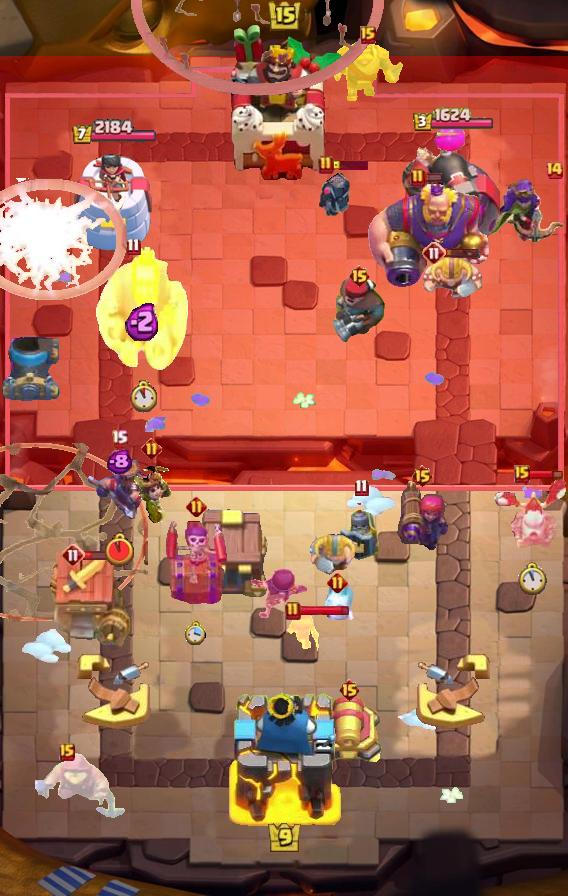barbarian-evolution: (0, 178, 128, 300)
barbarian-hut: (482, 179, 568, 255)
bat: (315, 581, 359, 627)
battle-ram: (317, 166, 353, 220)
bomb: (193, 506, 273, 600)
bomber-evolution: (129, 463, 173, 524)
electro-spirit: (125, 301, 161, 341), (106, 449, 132, 475)
elixir: (106, 532, 135, 567), (129, 379, 159, 412), (518, 562, 547, 596), (185, 619, 207, 644)
elixir-golem-big: (85, 450, 153, 524)
emote: (299, 604, 350, 617), (443, 247, 480, 259), (529, 468, 564, 480), (83, 551, 119, 562), (332, 160, 368, 170), (425, 173, 444, 184)
fireball: (31, 752, 127, 820)
firecracker: (332, 41, 403, 101)
giant-skeleton: (95, 245, 191, 373)
goblin: (286, 612, 322, 652)
goblin-ball: (250, 565, 310, 621)
goblin-giant: (421, 253, 483, 301), (309, 533, 357, 576)
guard: (0, 442, 148, 622)
king-tower: (224, 23, 344, 181), (226, 688, 342, 826)
lightning: (367, 183, 493, 289)
mega-minion: (396, 478, 448, 550)
miner: (433, 122, 465, 152)
mini-pekka: (494, 478, 568, 550)
musketeer: (0, 337, 60, 401)
phoenix-small: (330, 276, 388, 346)
princess: (338, 499, 384, 563)
queen-tower: (71, 144, 157, 255)
royal-recruit: (313, 694, 385, 768)
selected: (70, 118, 157, 145), (413, 107, 496, 133)
skeleton-barrel: (130, 0, 384, 96)
skeleton-king-bar: (165, 518, 227, 604)
sparky: (44, 551, 130, 649)
text: (422, 241, 446, 265), (61, 543, 85, 567), (349, 264, 372, 288), (411, 464, 434, 488), (338, 678, 361, 702), (142, 437, 163, 459), (185, 495, 206, 517), (327, 572, 348, 593), (544, 160, 564, 180), (112, 428, 129, 447), (318, 155, 334, 175), (410, 168, 426, 188), (285, 601, 301, 621), (360, 26, 376, 44), (514, 465, 530, 483), (59, 743, 75, 761), (126, 237, 141, 256), (355, 479, 369, 497)
tower-bar: (402, 136, 504, 256)
